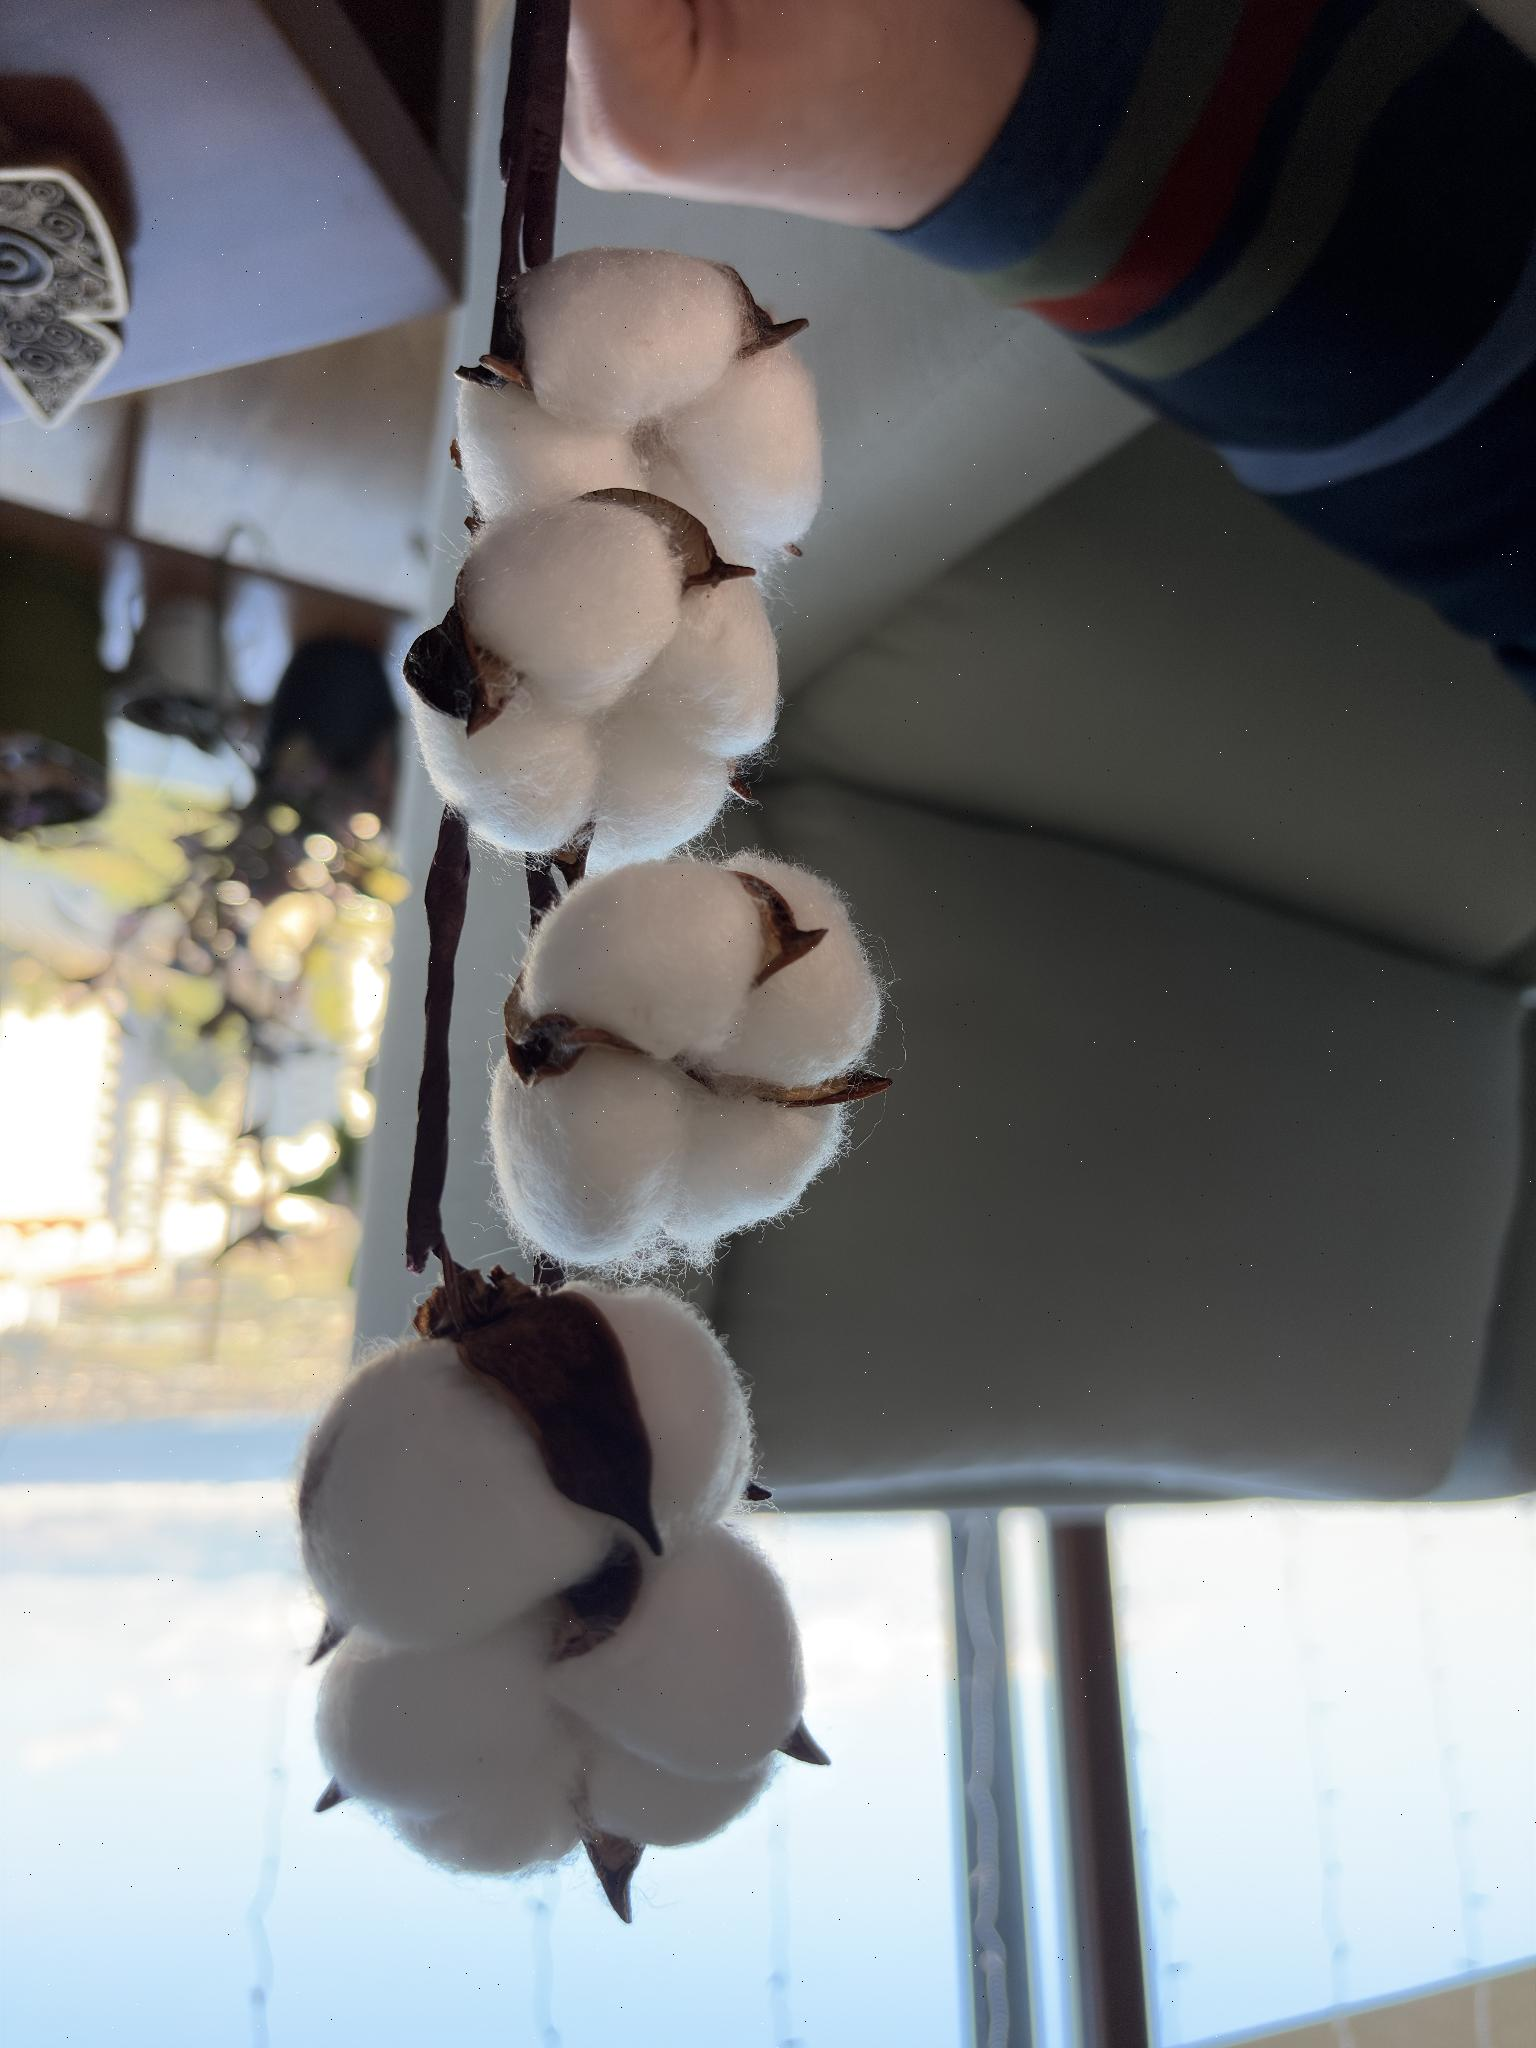cotton_boll: (300, 1342, 618, 1651), (550, 1532, 803, 1780), (318, 1614, 560, 1819), (523, 860, 766, 1058), (460, 500, 682, 716), (490, 1048, 692, 1264), (591, 1288, 753, 1548), (518, 250, 745, 429), (715, 863, 879, 1085), (663, 345, 821, 556), (379, 1724, 581, 1875), (413, 687, 597, 851), (663, 1085, 847, 1243), (457, 382, 645, 524), (634, 581, 778, 763), (594, 698, 736, 869), (632, 429, 784, 571), (587, 1742, 773, 1846), (571, 1137, 576, 1138)
cotton_boll-cluster: (284, 1266, 812, 1893), (482, 842, 891, 1276), (400, 490, 792, 880), (449, 244, 824, 595)
